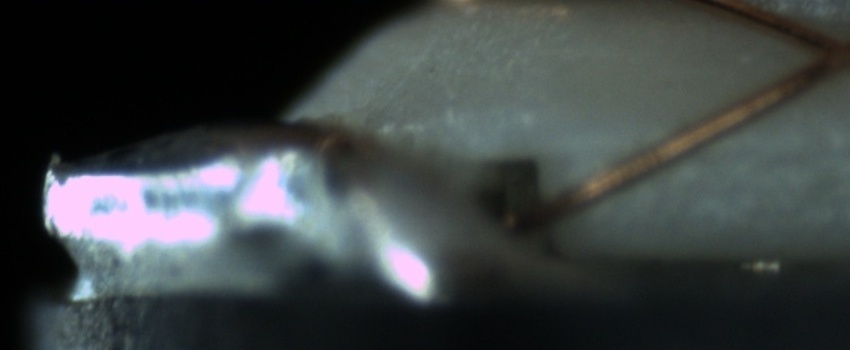CL: (796, 20, 849, 80)
